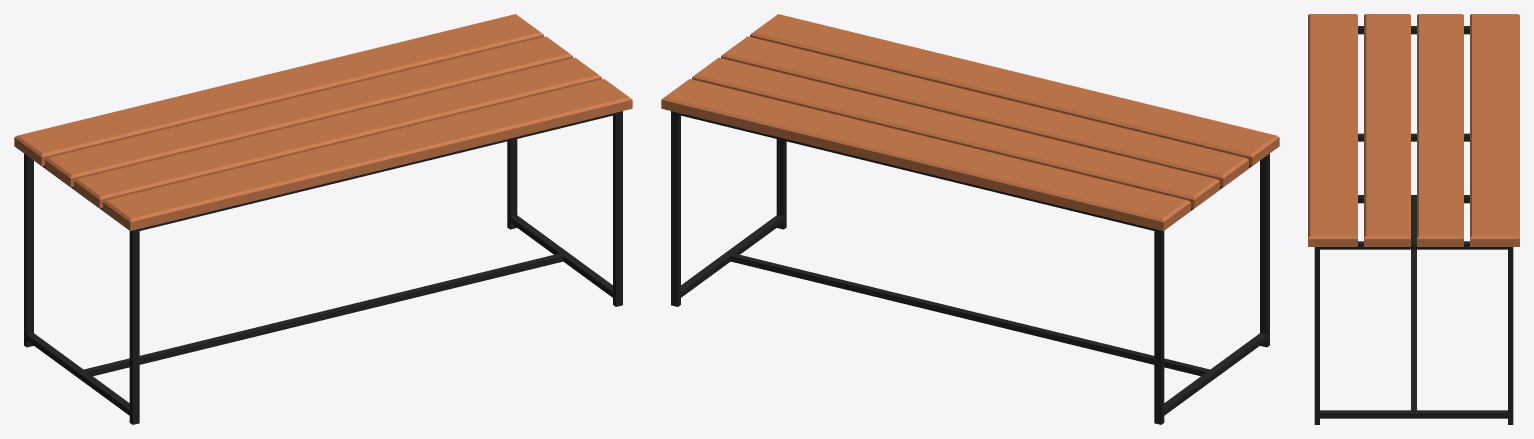
Rendered from desk_long.glb.
3 views of the same model, side by side, from view 1: azimuth 30°, elevation 25°; view 2: azimuth 150°, elevation 25°; view 3: azimuth 270°, elevation 25° (orthographic). The views are drawn at different scales.
Parts seen in each view (by area): view 1: desk_long; view 2: desk_long; view 3: desk_long.
Part boxes in pixels (left/top/right/bottom): desk_long: left=14, top=14, right=632, bottom=424; desk_long: left=661, top=14, right=1279, bottom=424; desk_long: left=1308, top=14, right=1519, bottom=424.
Bounding box in the file's own units: 2 × 0.7954 × 0.8.
